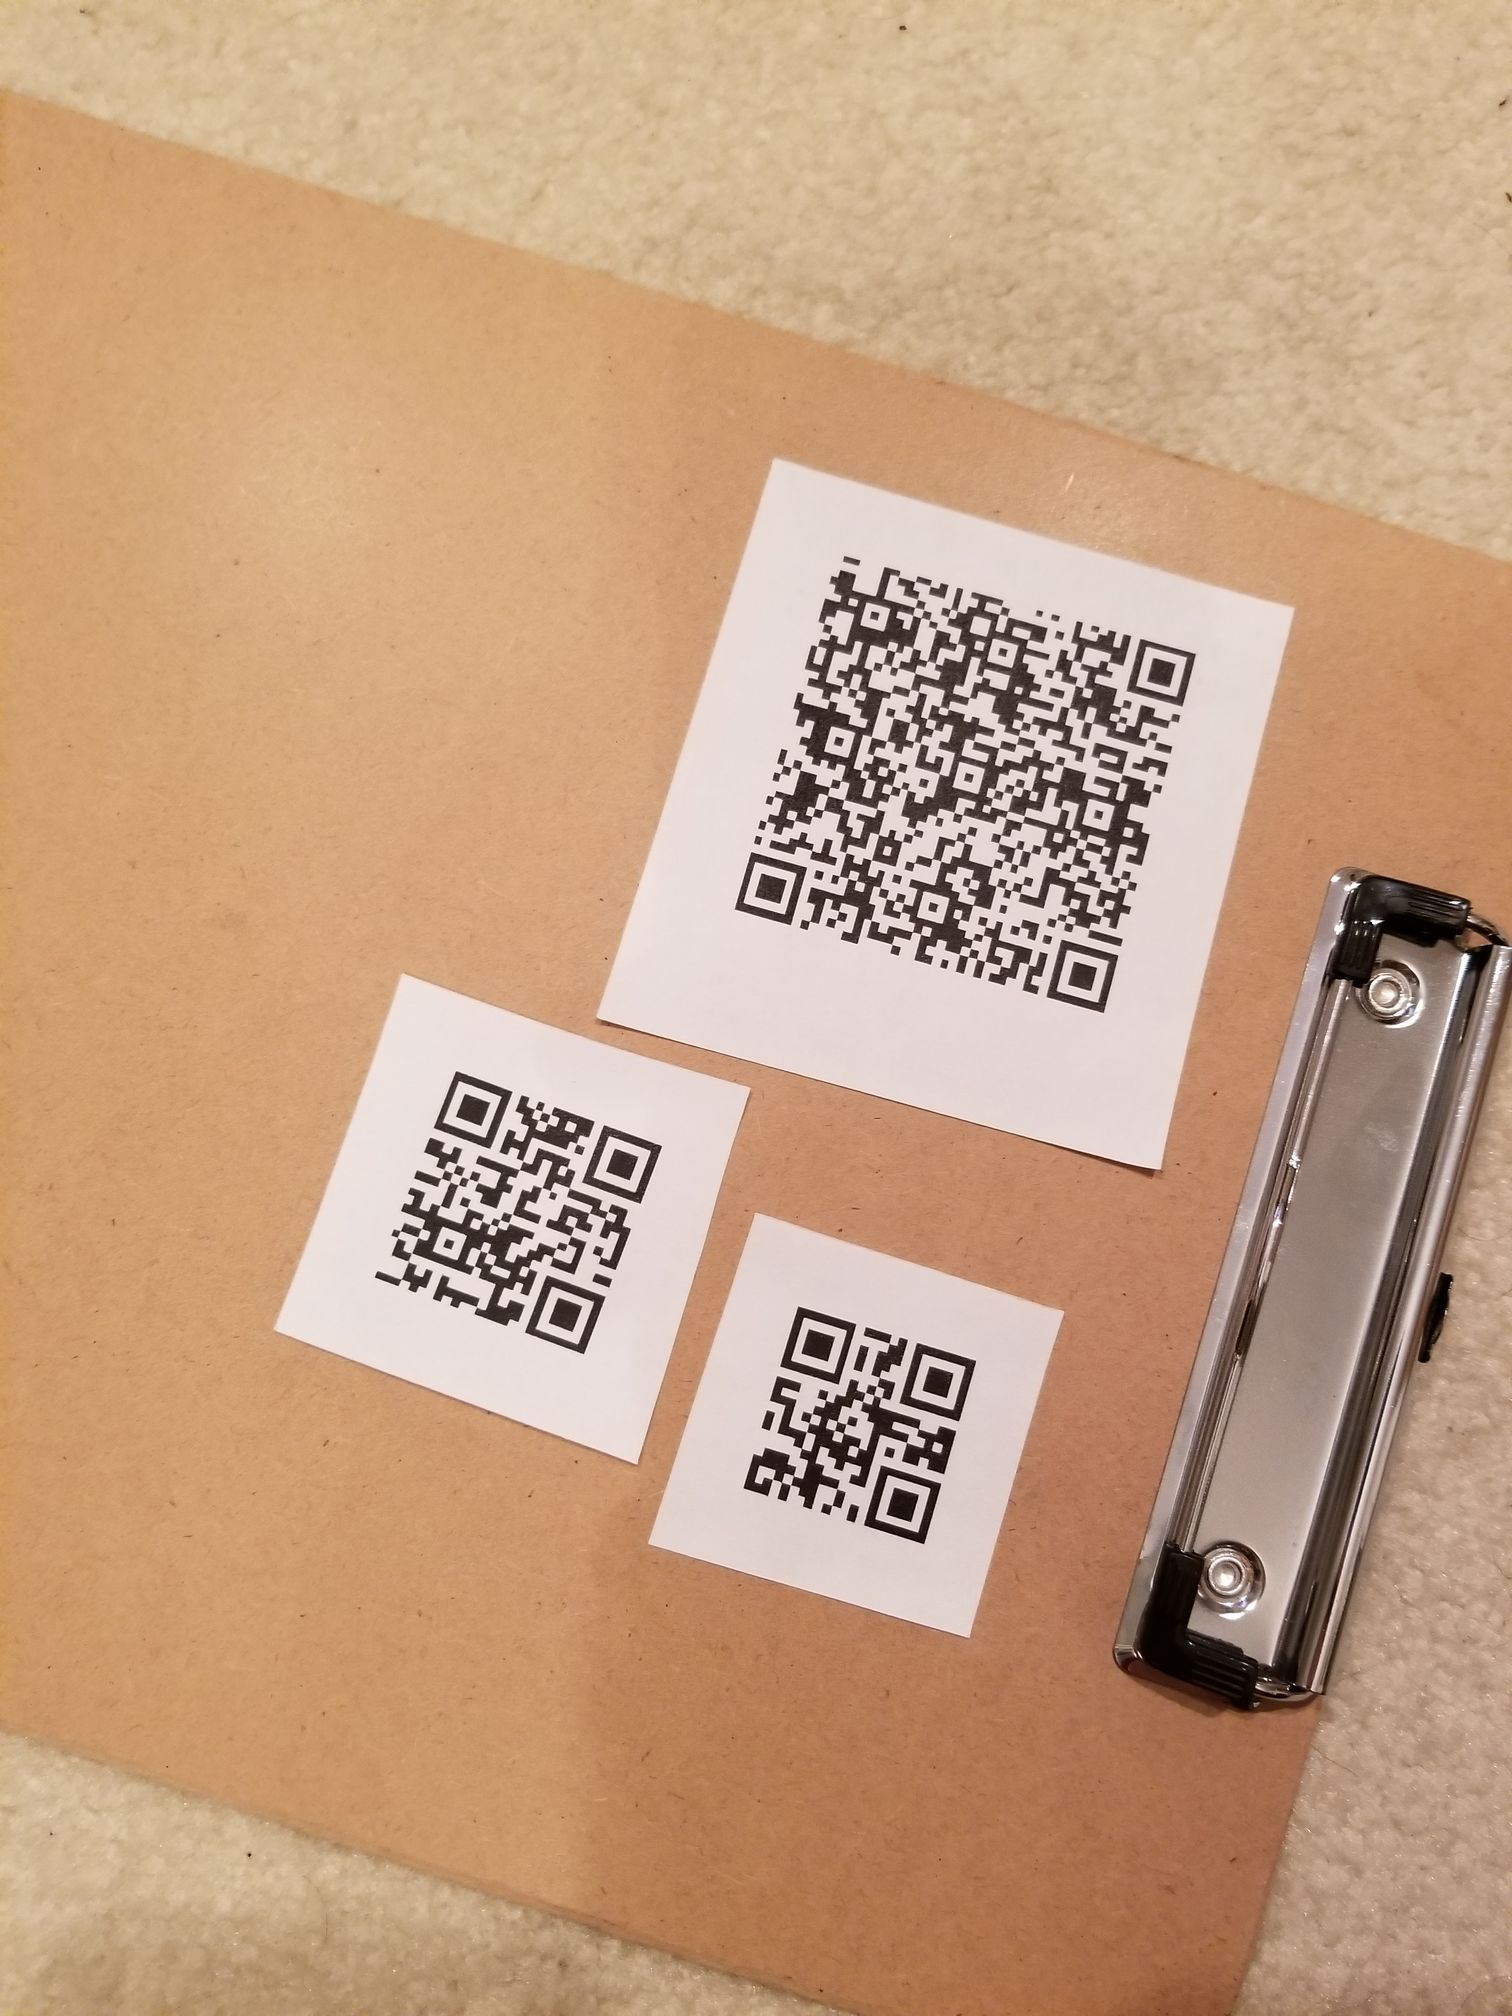QR_CODE: (716, 524, 1256, 1040), (357, 1033, 683, 1383), (710, 1278, 1004, 1575)
